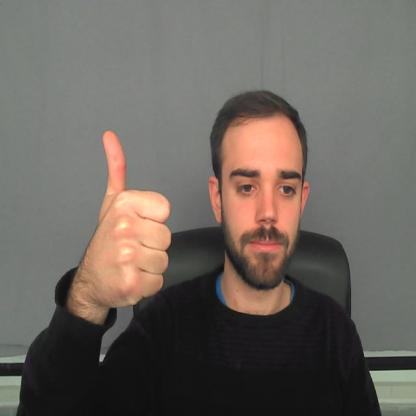thumbs-up: (89, 125, 178, 308)
